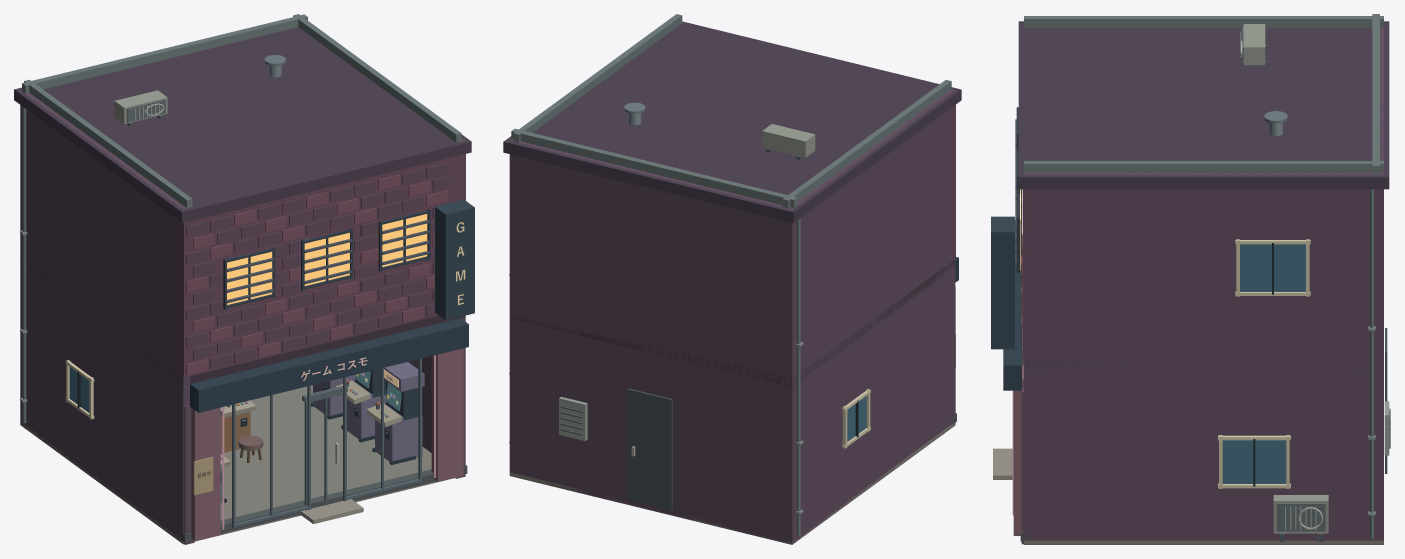
File: arcade.glb
3 views of the same model, side by side, from view 1: azimuth 30°, elevation 25°; view 2: azimuth 150°, elevation 25°; view 3: azimuth 270°, elevation 25° (orthographic). The views are drawn at different scales.
Parts seen in each view (by area): view 1: 宇宙游戏厅, 街机 (×4), 室外空调机; view 2: 宇宙游戏厅, 室外空调机; view 3: 宇宙游戏厅, 室外空调机 (×2).
Boxes of the visible parts, bbox=[...] form: 宇宙游戏厅: bbox=[14, 14, 474, 544]; 街机 (×4): bbox=[220, 362, 424, 464]; 室外空调机: bbox=[114, 90, 167, 126]; 宇宙游戏厅: bbox=[503, 14, 961, 544]; 室外空调机: bbox=[762, 124, 815, 159]; 宇宙游戏厅: bbox=[991, 14, 1390, 544]; 室外空调机 (×2): bbox=[1240, 24, 1328, 541].
Size of the model in its own units: 6.38 by 7.19 by 6.67.
89 materials, 14 textured.
